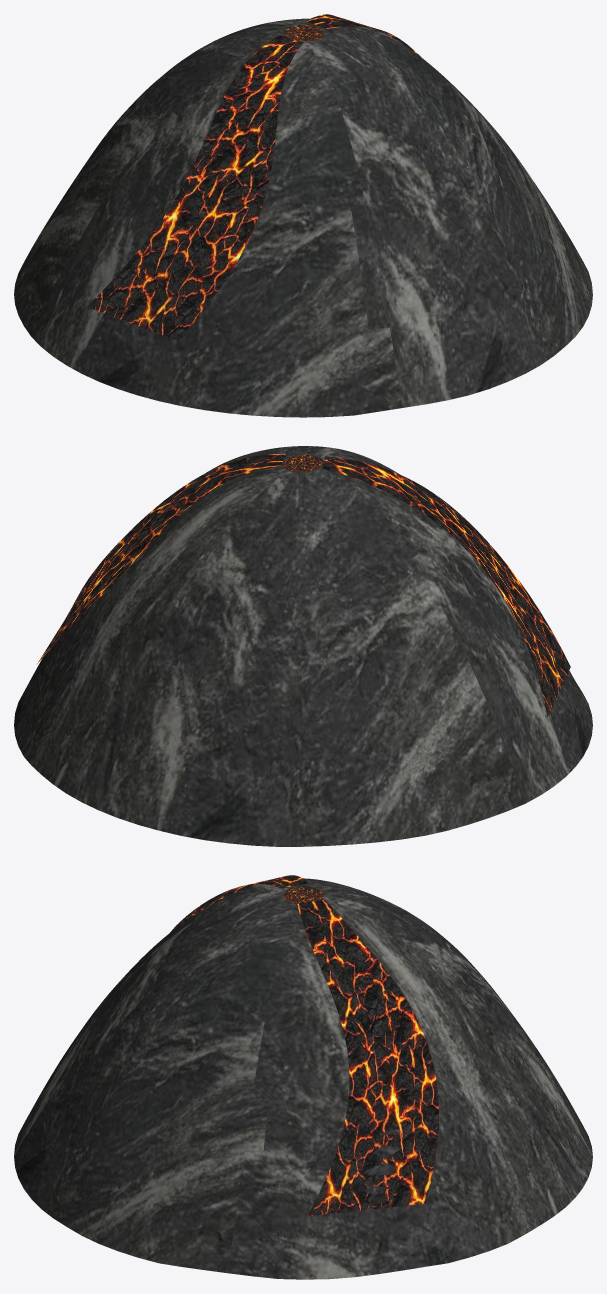
File: volcano_shield_mid.glb
3 renders of one model, top to bottom at view 1: azimuth 30°, elevation 25°; view 2: azimuth 150°, elevation 25°; view 3: azimuth 270°, elevation 25°, orthographic.
Visible parts, largest first — view 1: Volcano_ShieldCone, Volcano_ShieldLavaFlow_01, Volcano_ShieldCraterInner; view 2: Volcano_ShieldCone, Volcano_ShieldLavaFlow_01, Volcano_ShieldCraterInner; view 3: Volcano_ShieldCone, Volcano_ShieldLavaFlow_01, Volcano_ShieldCraterInner.
Boxes of the visible parts, left/top/right/bottom form: Volcano_ShieldCone: left=14, top=18, right=592, bottom=417; Volcano_ShieldLavaFlow_01: left=87, top=14, right=420, bottom=340; Volcano_ShieldCraterInner: left=283, top=25, right=323, bottom=41; Volcano_ShieldCone: left=14, top=446, right=592, bottom=846; Volcano_ShieldLavaFlow_01: left=37, top=454, right=570, bottom=716; Volcano_ShieldCraterInner: left=283, top=455, right=323, bottom=472; Volcano_ShieldCone: left=14, top=878, right=592, bottom=1279; Volcano_ShieldLavaFlow_01: left=170, top=875, right=438, bottom=1216; Volcano_ShieldCraterInner: left=283, top=887, right=323, bottom=903.
Size of the model in its own units: 2 by 1 by 2.
3 materials, 3 textured.
